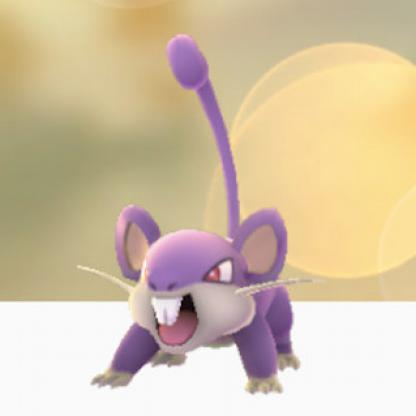Rattata: (60, 38, 322, 402)
